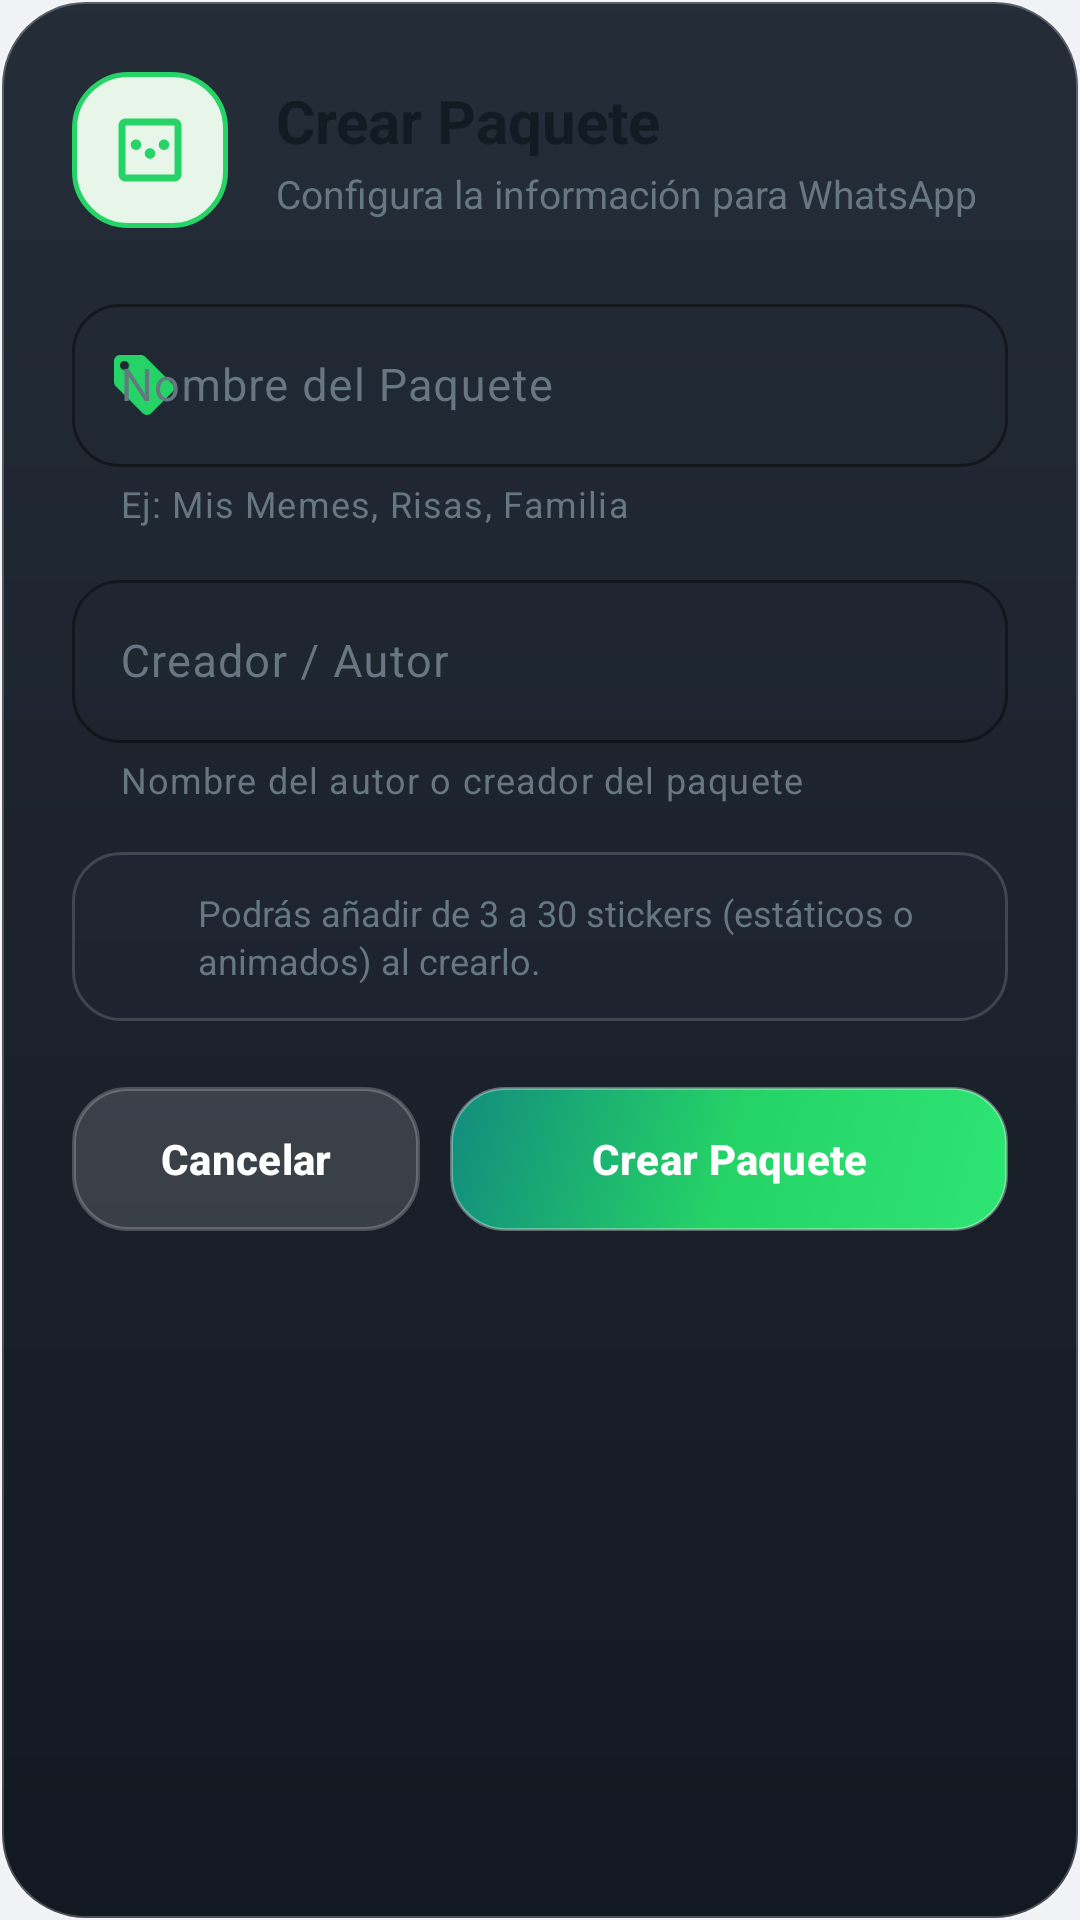

Where icons sit on this 1080w x 1920h app screen, as [x1, y1, x2, y2]:
sticker pack: [72, 72, 228, 228]
